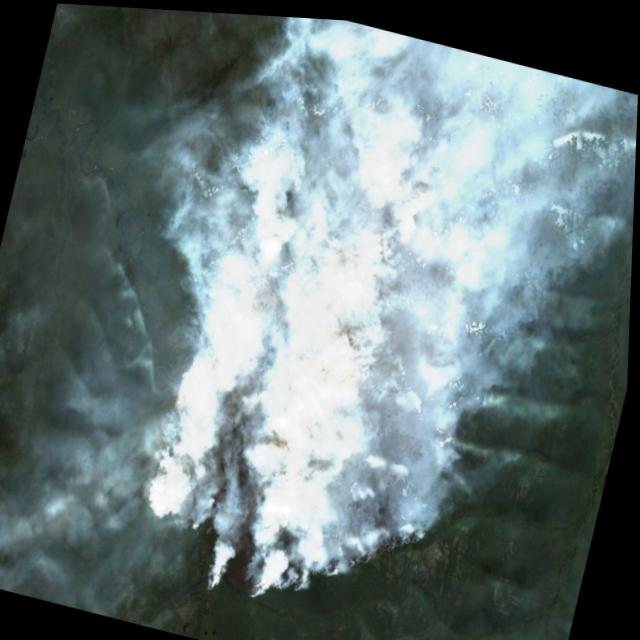fire: (124, 142, 516, 640)
